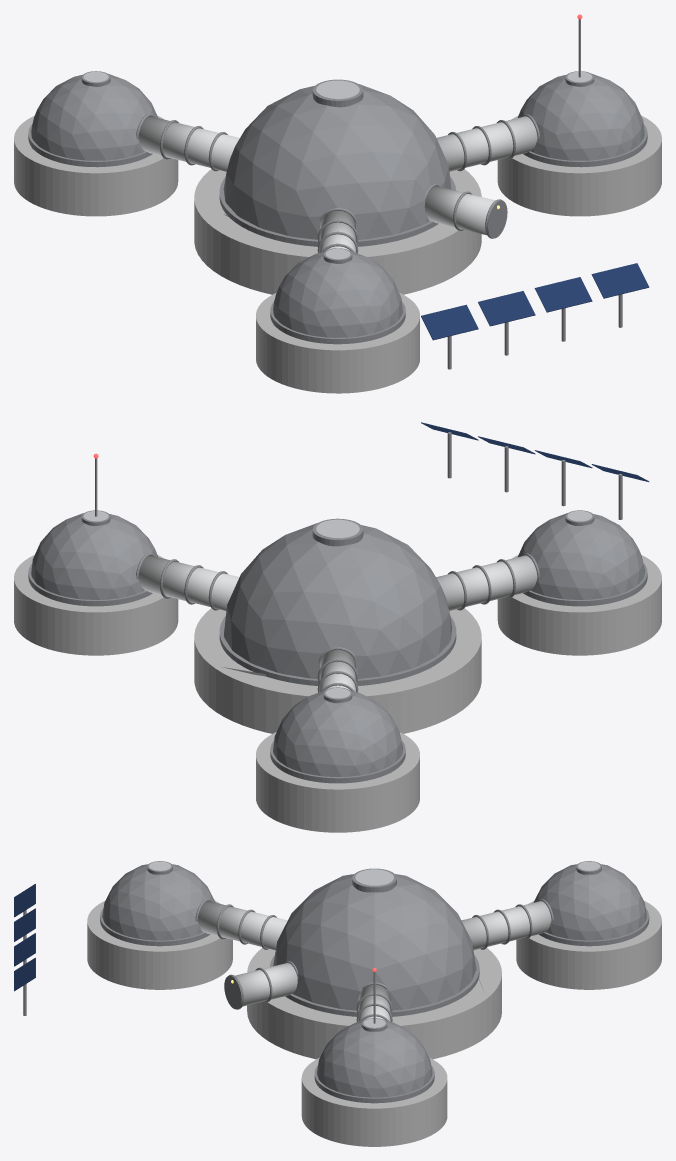
The picture shows the model from 3 angles, top to bottom: view 1: azimuth 30°, elevation 25°; view 2: azimuth 150°, elevation 25°; view 3: azimuth 270°, elevation 25°; orthographic projection. The views are drawn at different scales.
Parts seen in each view (by area): view 1: DomoCentral_Hastes, Plataforma, Plataforma.003, Domo3_Hastes, Plataforma.001, Plataforma.002, Domo2_Hastes, Domo1_Hastes, Tunel, Tunel.001, Eclusa, DomoCentral_AnelBase (+11 smaller); view 2: DomoCentral_Hastes, Plataforma, Plataforma.002, Domo2_Hastes, Plataforma.001, Plataforma.003, Domo3_Hastes, Domo1_Hastes, Tunel, Tunel.002, DomoCentral_AnelBase, DomoCentral_Claraboia (+5 smaller); view 3: DomoCentral_Hastes, Plataforma, Plataforma.001, Domo1_Hastes, Plataforma.003, Plataforma.002, Domo2_Hastes, Domo3_Hastes, Tunel.001, Tunel.002, Eclusa, DomoCentral_AnelBase (+11 smaller).
Part boxes in pixels (x1,y1,x2,y2): DomoCentral_Hastes: [223, 84, 451, 239]; Plataforma: [194, 169, 481, 294]; Plataforma.003: [256, 292, 419, 393]; Domo3_Hastes: [273, 251, 402, 337]; Plataforma.001: [497, 115, 661, 216]; Plataforma.002: [14, 115, 178, 216]; Domo2_Hastes: [31, 73, 158, 160]; Domo1_Hastes: [518, 74, 644, 160]; Tunel: [436, 116, 537, 171]; Tunel.001: [138, 116, 239, 171]; Eclusa: [424, 186, 495, 235]; DomoCentral_AnelBase: [219, 176, 456, 246]; DomoCentral_Hastes: [224, 523, 452, 679]; Plataforma: [194, 608, 481, 733]; Plataforma.002: [256, 732, 419, 832]; Domo2_Hastes: [273, 690, 402, 776]; Plataforma.001: [14, 555, 178, 655]; Plataforma.003: [497, 555, 661, 655]; Domo3_Hastes: [518, 513, 644, 599]; Domo1_Hastes: [31, 513, 157, 599]; Tunel: [138, 555, 239, 610]; Tunel.002: [436, 555, 537, 610]; DomoCentral_AnelBase: [219, 616, 456, 685]; DomoCentral_Claraboia: [312, 518, 363, 546]; DomoCentral_Hastes: [273, 874, 476, 1010]; Plataforma: [247, 948, 501, 1059]; Plataforma.001: [301, 1057, 447, 1146]; Domo1_Hastes: [317, 1021, 432, 1097]; Plataforma.003: [87, 901, 232, 989]; Plataforma.002: [516, 901, 661, 989]; Domo2_Hastes: [533, 864, 646, 940]; Domo3_Hastes: [102, 864, 215, 940]; Tunel.001: [461, 901, 551, 950]; Tunel.002: [197, 901, 287, 949]; Eclusa: [235, 963, 297, 1006]; DomoCentral_AnelBase: [269, 955, 479, 1016].
Size of the model in its own units: 35.5 by 11.22 by 44.47.
